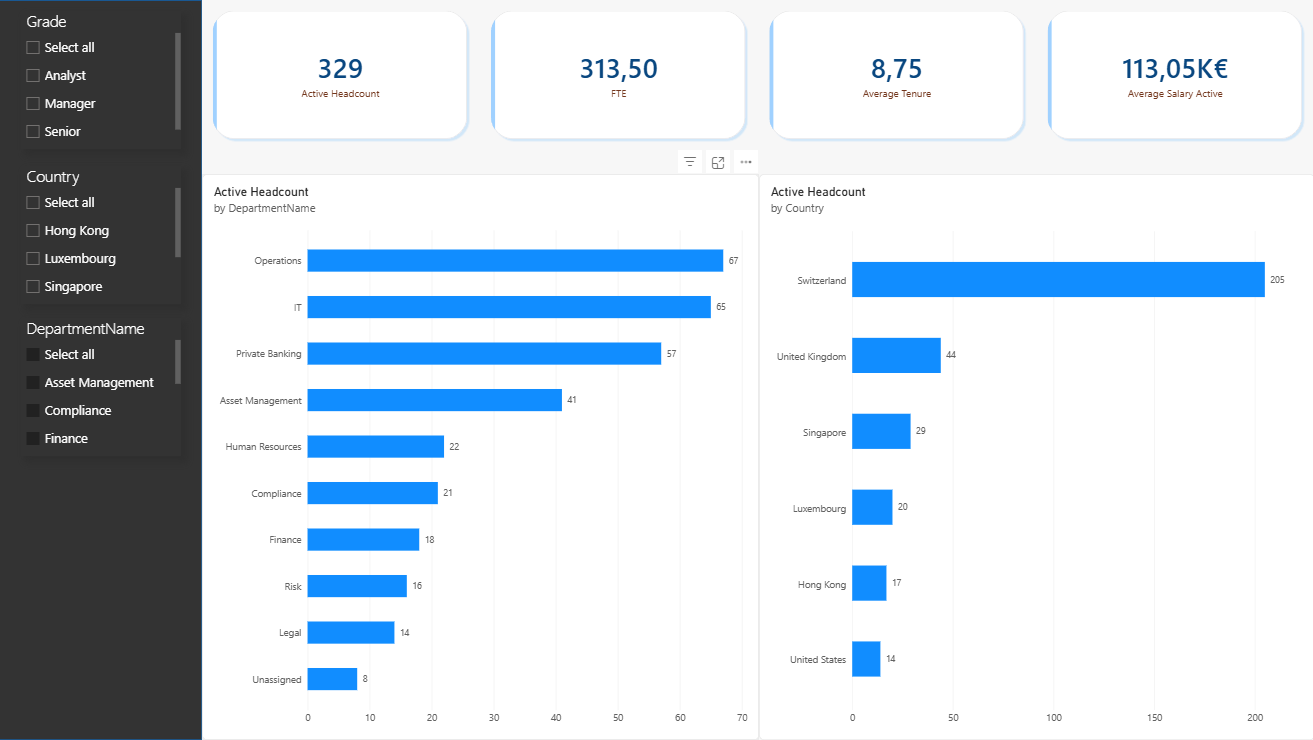

This screenshot's page, from the dashboard's own definition file:
{"tool":"powerbi","page":{"name":"Overview","canvas":[1920,1080],"ordinal":0},"visuals":[{"type":"cardVisual","fields":{"Data":["Employees.Active Headcount","Employees.FTE","Employees.Average Tenure","Employees.Average Salary Active"]},"box":[296.3,0,1623.7,218.5],"z":0},{"type":"clusteredBarChart","fields":{"Category":["Employees.DepartmentName"],"Y":["Employees.Active Headcount"]},"box":[296.3,254.2,812.7,825.6],"z":1000},{"type":"clusteredBarChart","fields":{"Category":["locations.Country"],"Y":["Employees.Active Headcount"]},"box":[1108.9,254.2,811.1,825.6],"z":2000},{"type":"shape","box":[0,0,296.3,1079.8],"z":3000},{"type":"slicer","fields":{"Values":["Employees.Grade"]},"box":[32.4,16.2,233.1,202.4],"z":4000},{"type":"slicer","fields":{"Values":["locations.Country"]},"box":[32.4,242.8,233.1,202.4],"z":5000},{"type":"slicer","fields":{"Values":["Employees.DepartmentName"]},"box":[32.4,464.6,233.1,202.4],"z":6000}]}

Visuals, with their boxes on the page's 1920x1080 design canvas (x1, y1, x2, y2). These are canvas units, not pixel positions in the 1313x740 screenshot, which may show the page scaled, cropped or inside an application window:
cardVisual - Employees.Active Headcount x Employees.FTE: 296 0 1920 218
clusteredBarChart - Employees.DepartmentName x Employees.Active Headcount: 296 254 1109 1080
clusteredBarChart - locations.Country x Employees.Active Headcount: 1109 254 1920 1080
shape: 0 0 296 1080
slicer - Employees.Grade: 32 16 266 219
slicer - locations.Country: 32 243 266 445
slicer - Employees.DepartmentName: 32 465 266 667
